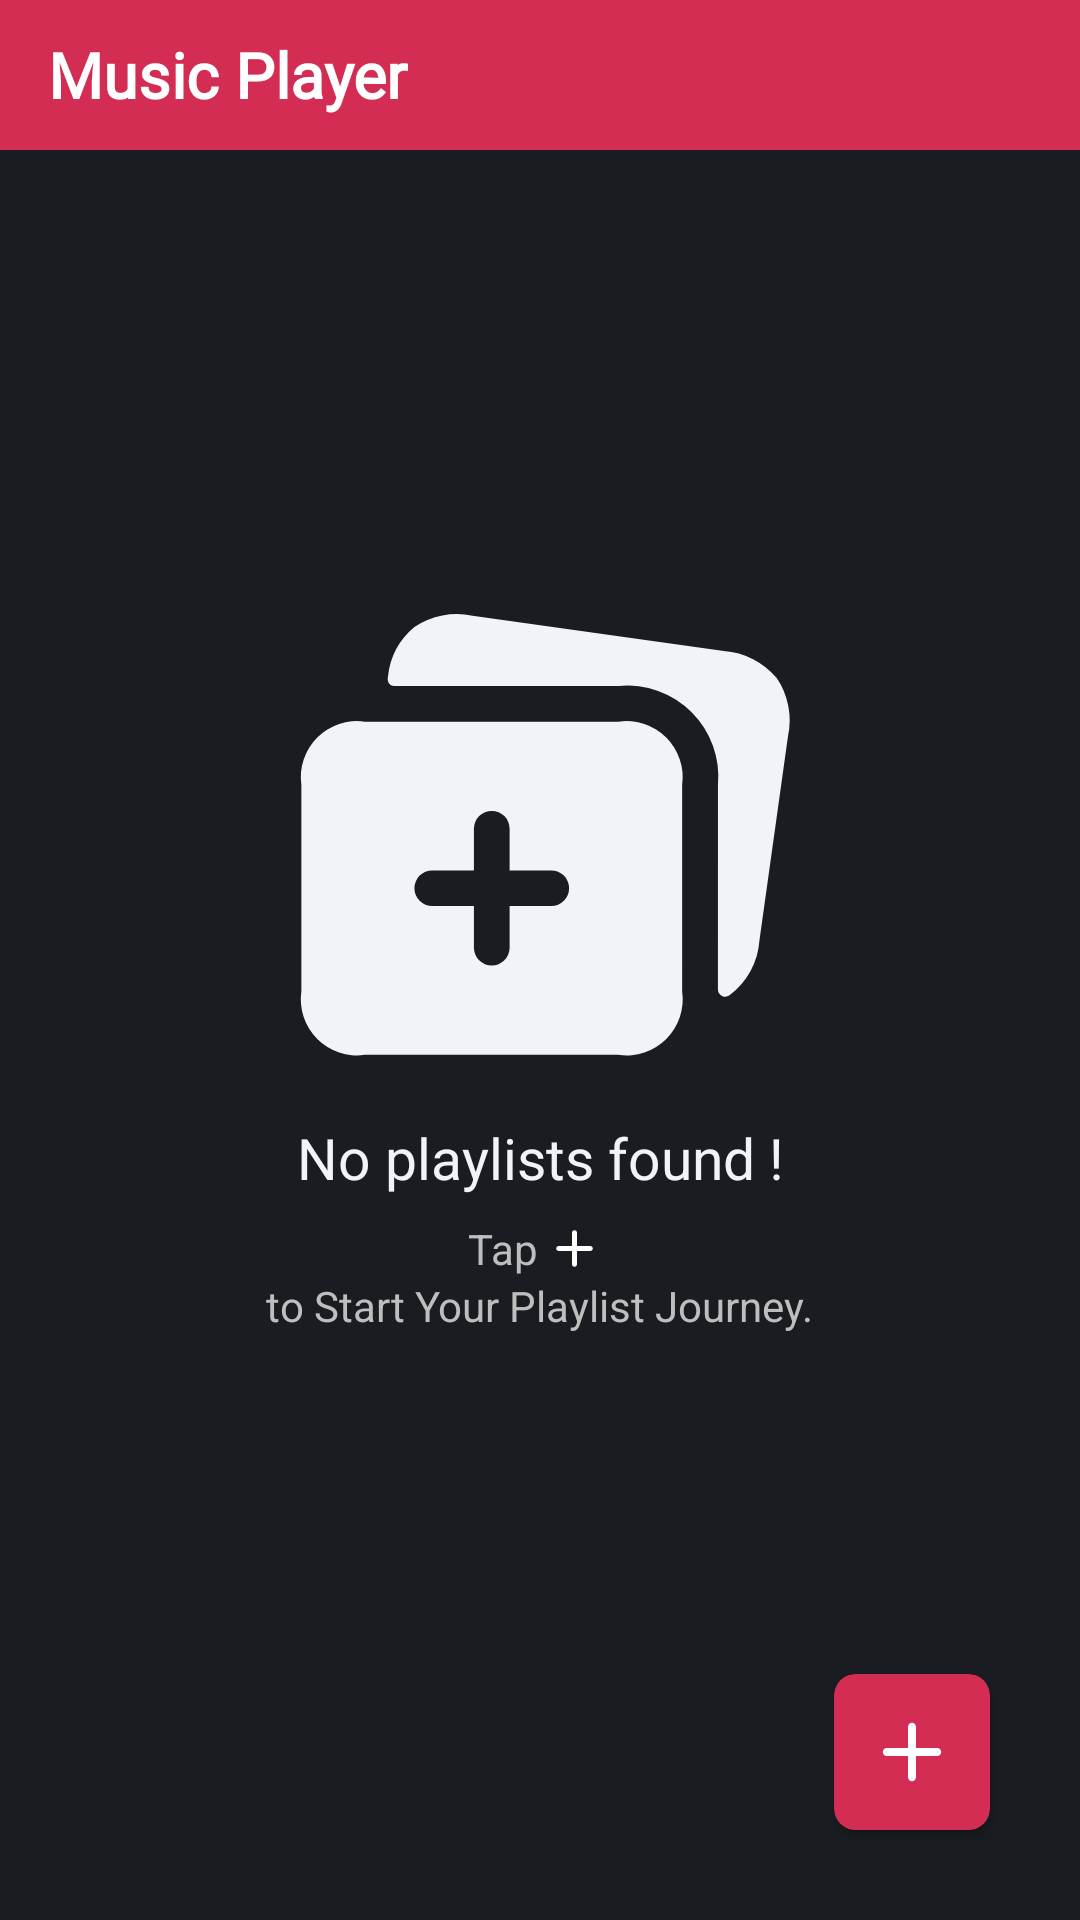

Where to tap for icons on this 1080px×1920px app screen, as [x,y]:
add: [574,1248], [912,1752]
